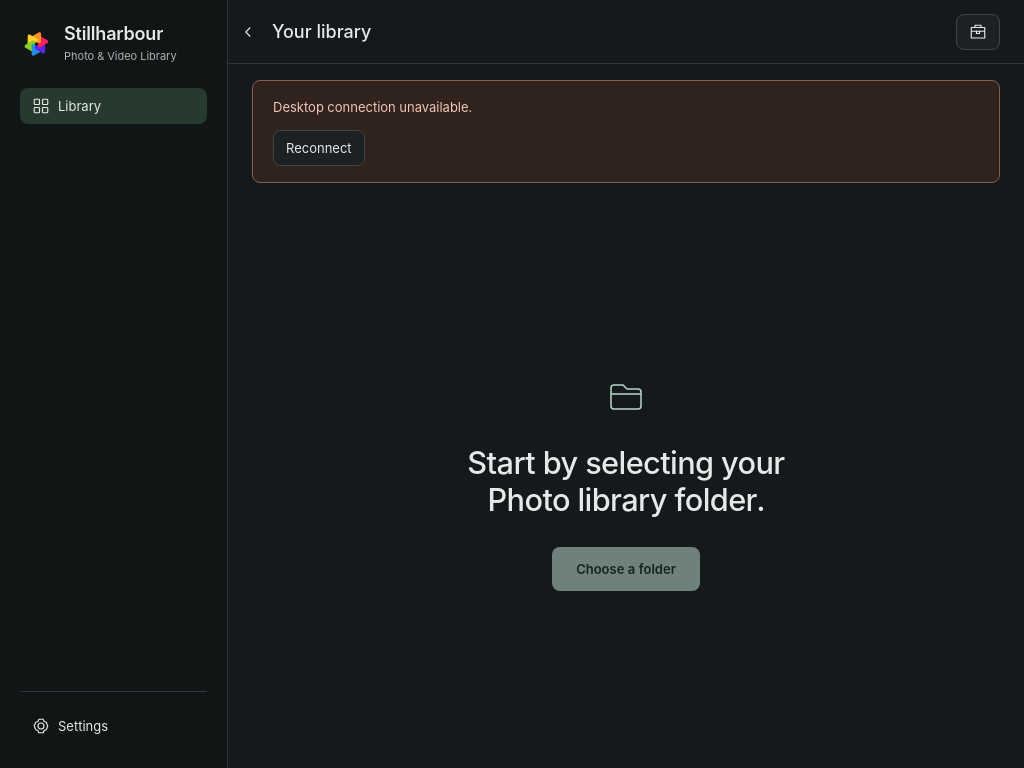
Scenario: native library onboarding › shows a native failure and retries without presenting a working library
Expected: the message shows "Desktop connection unavailable.", [273,99,472,115]
Expected: the button "Choose a folder" is disabled, [552,547,700,591]
Click the button "Reconnect" at [319, 148], box [273,130,365,166]
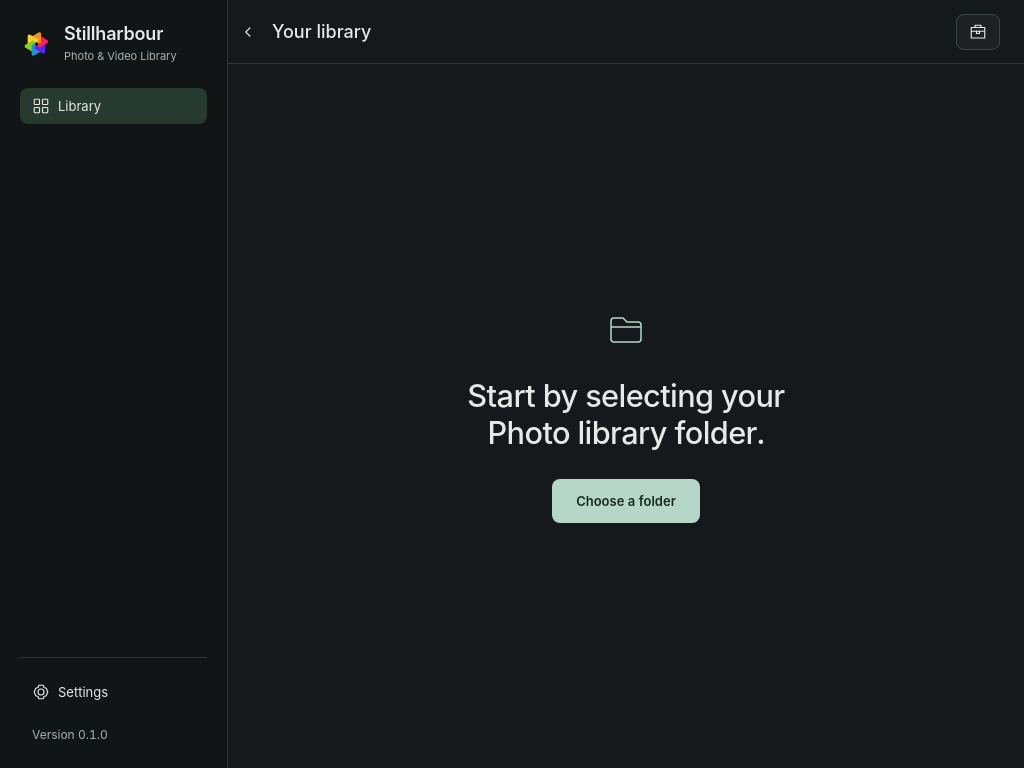
Now the button "Choose a folder" is enabled, box [552,479,700,523]
